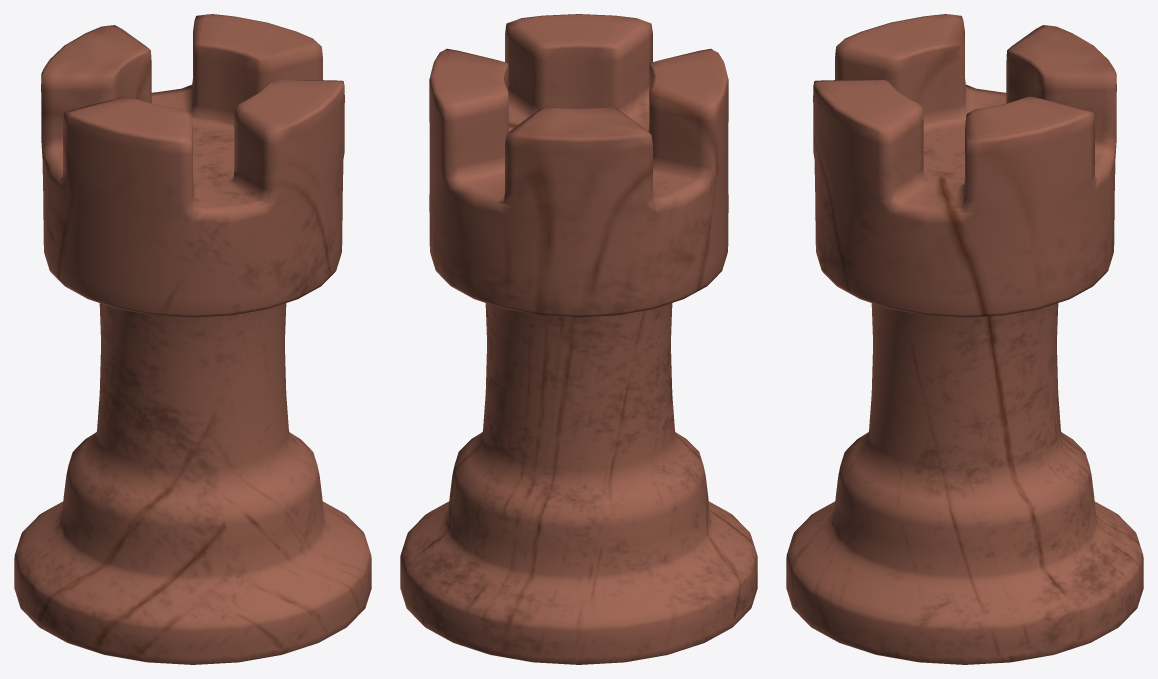
The model's file is GEO_BlackRook_01.obj.
The picture shows the model from 3 angles, left to right: view 1: azimuth 30°, elevation 25°; view 2: azimuth 150°, elevation 25°; view 3: azimuth 270°, elevation 25°; orthographic projection.
Visible parts, largest first — view 1: GEO_BlackRook_01; view 2: GEO_BlackRook_01; view 3: GEO_BlackRook_01.
Boxes of the visible parts, bbox=[...] form: GEO_BlackRook_01: bbox=[14, 14, 371, 664]; GEO_BlackRook_01: bbox=[400, 14, 757, 664]; GEO_BlackRook_01: bbox=[786, 14, 1143, 664].
Size of the model in its own units: 0.0351 by 0.0557 by 0.0351.
